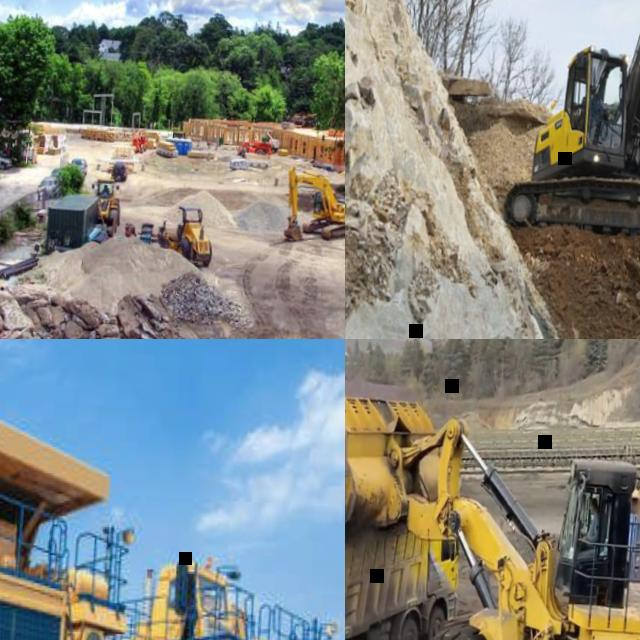NO-Hardhat: (590, 497, 598, 508)
NO-Mask: (589, 509, 594, 516)
NO-Safety Vest: (587, 515, 599, 539)
Person: (578, 495, 601, 551), (579, 85, 598, 120)
vehicle: (345, 363, 640, 640), (0, 340, 141, 640), (496, 0, 640, 278), (74, 545, 344, 640), (345, 470, 465, 640), (568, 466, 640, 594), (281, 164, 345, 248), (149, 202, 213, 271), (87, 177, 122, 237), (35, 174, 57, 198), (67, 157, 87, 177), (110, 162, 127, 183), (0, 150, 12, 170), (49, 166, 62, 178)
